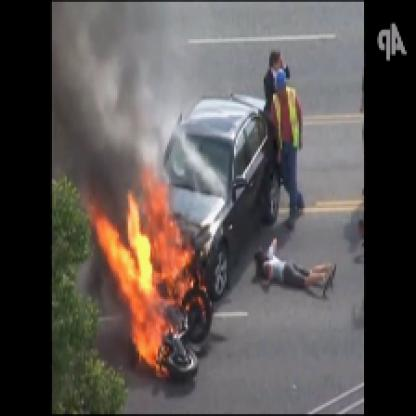Fire: (98, 172, 208, 380)
Smoke: (56, 3, 176, 174)
